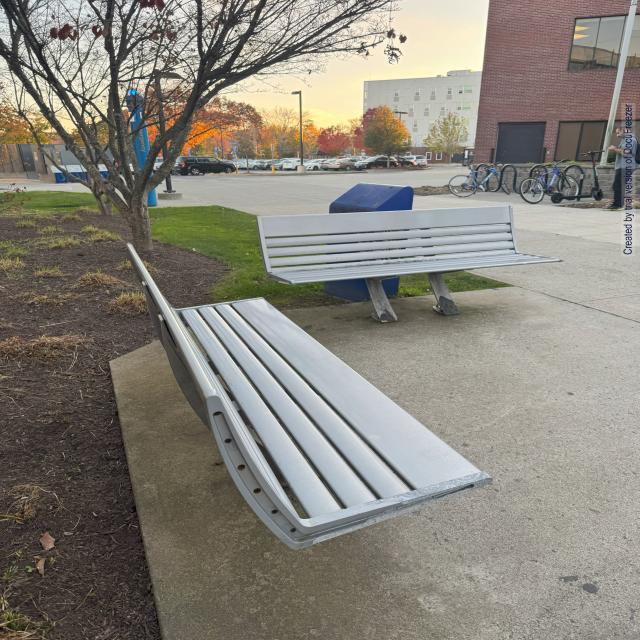chair: (123, 239, 500, 560), (235, 208, 563, 334)
